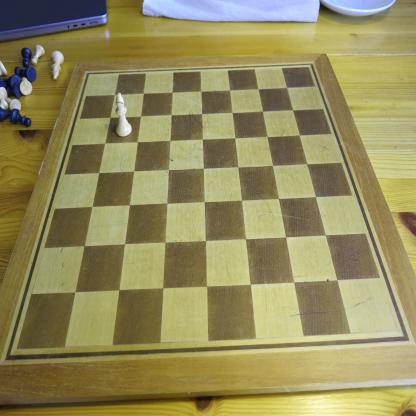black-pawn: (10, 107, 32, 128), (21, 47, 32, 67)
white-bishop: (114, 92, 133, 138), (50, 50, 65, 82)
white-pawn: (30, 44, 46, 66)
